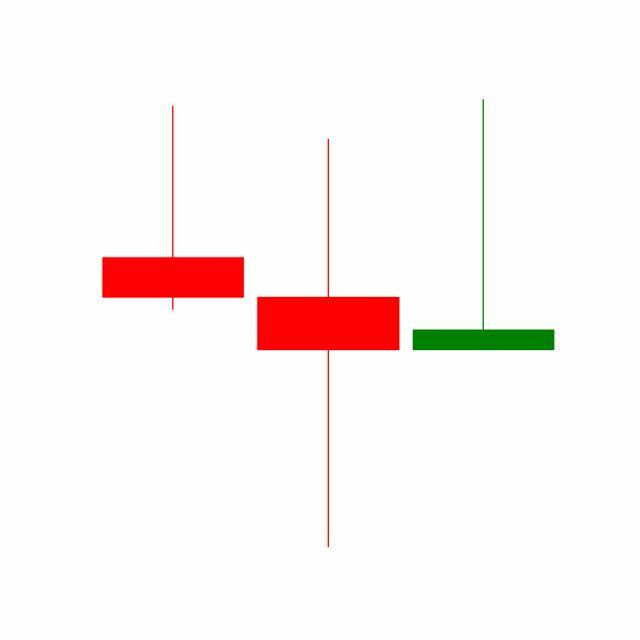Gravestone Doji: (406, 96, 562, 353)
